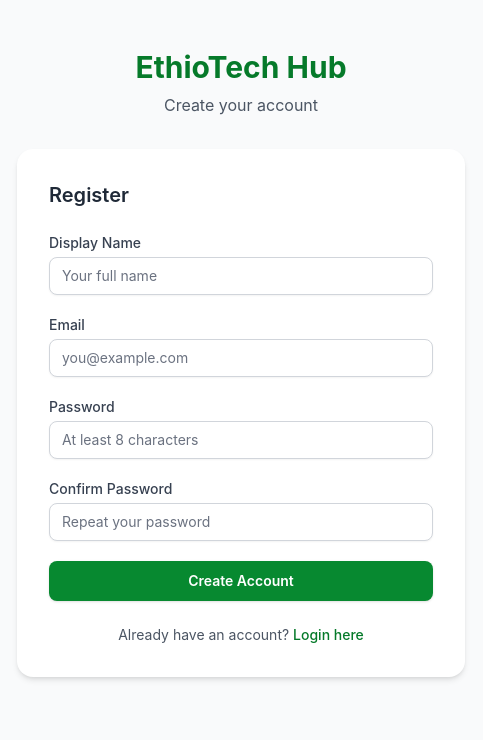
Test: RegisterPage › shows validation errors when submitting empty form
Click the button "Create Account".
click(241, 581)  # box [49,561,433,601]
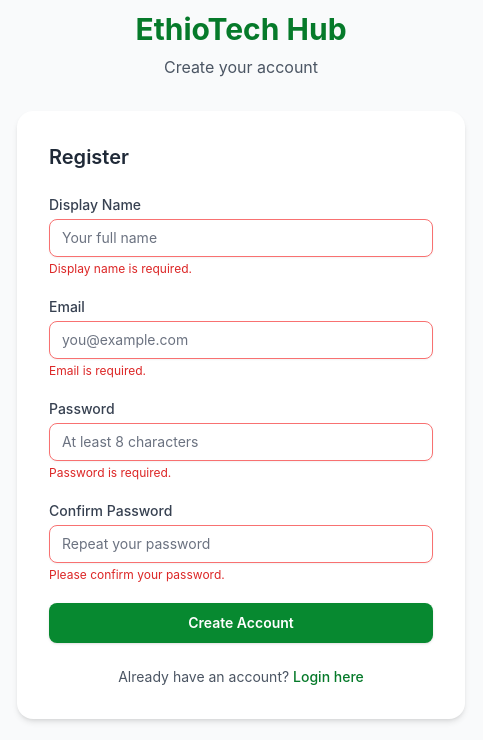
Now the text "Display name is required." is shown, box [49,261,192,276]
Now the text "Email is required." is shown, box [49,363,146,378]
Now the text "Password is required." is shown, box [49,465,171,480]
